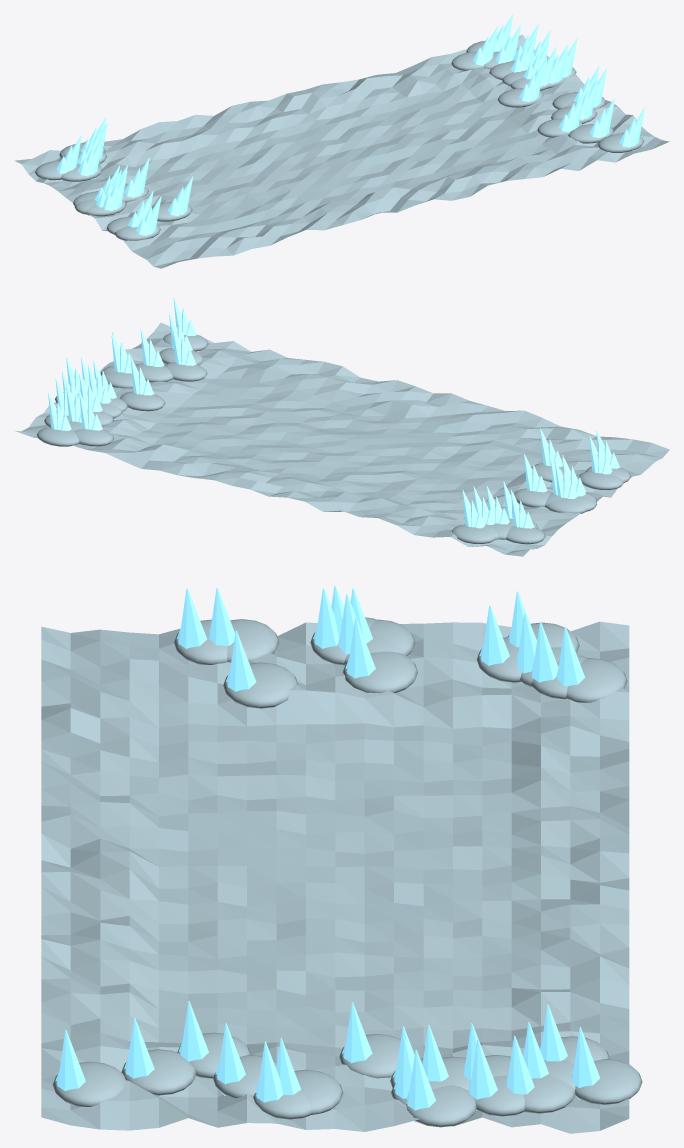
Rendered from terrain_ice.glb.
3 renders of one model, top to bottom at view 1: azimuth 30°, elevation 25°; view 2: azimuth 150°, elevation 25°; view 3: azimuth 270°, elevation 25°, orthographic. The views are drawn at different scales.
Parts seen in each view (by area): view 1: terrain_ice_Mesh; view 2: terrain_ice_Mesh; view 3: terrain_ice_Mesh.
Boxes of the visible parts, left/top/right/bottom form: terrain_ice_Mesh: left=14, top=14, right=669, bottom=268; terrain_ice_Mesh: left=14, top=297, right=669, bottom=556; terrain_ice_Mesh: left=41, top=585, right=642, bottom=1133.
Bounding box in the file's own units: 28.51 × 2.33 × 14.32.
